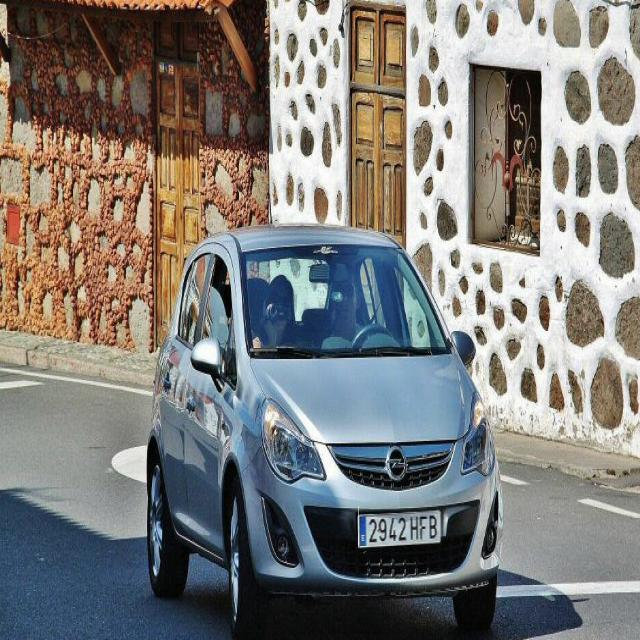License-Plate: (358, 506, 441, 548)
